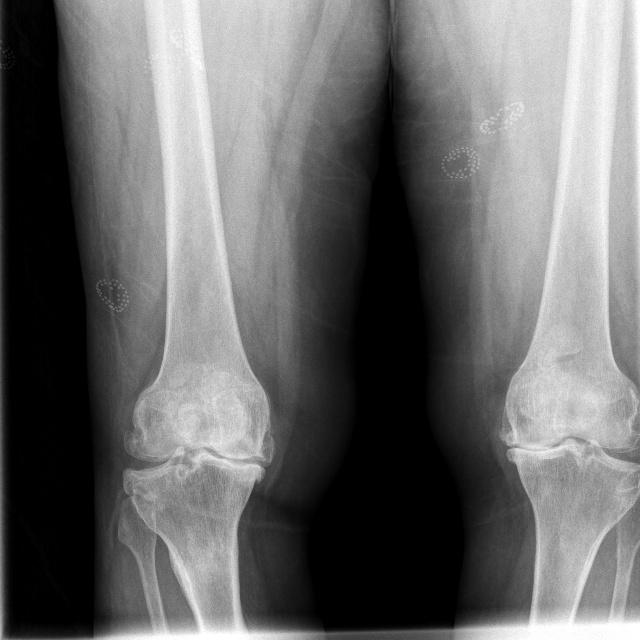Knee: (496, 357, 638, 522), (119, 372, 272, 519)
